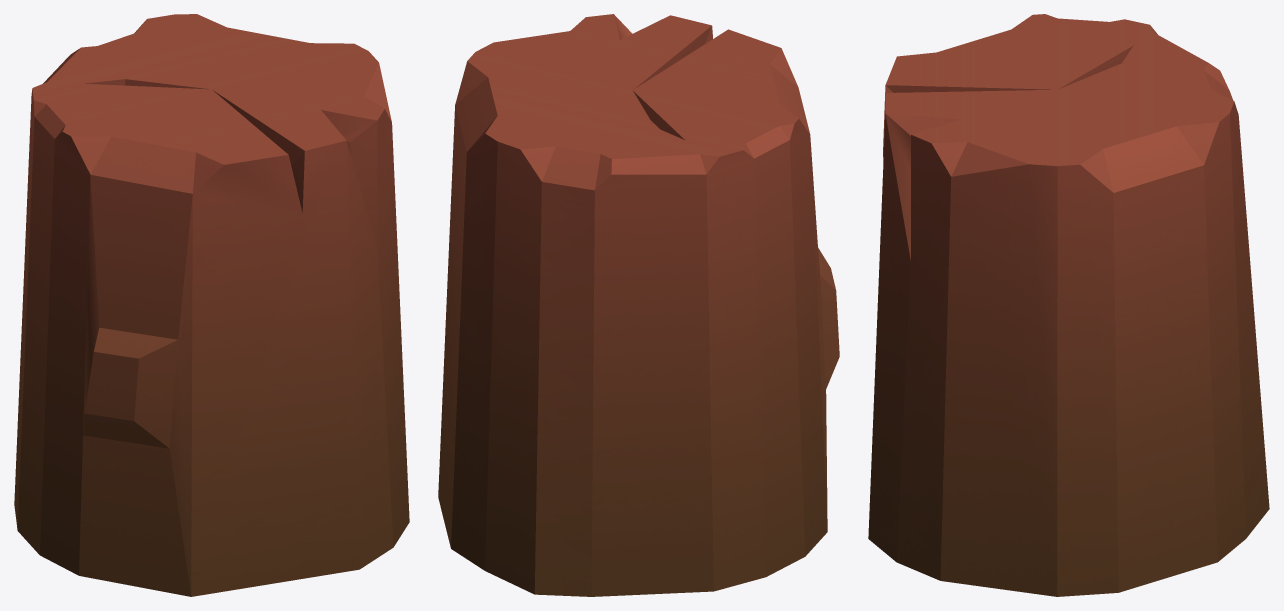
The model's file is ChoppingBlock.fbx.
The picture shows the model from 3 angles, left to right: view 1: azimuth 30°, elevation 25°; view 2: azimuth 150°, elevation 25°; view 3: azimuth 270°, elevation 25°; orthographic projection.
Parts seen in each view (by area): view 1: ChoppingBlock; view 2: ChoppingBlock; view 3: ChoppingBlock.
Boxes of the visible parts, box(x1,y1,x2,y2) form: ChoppingBlock: box(14, 14, 409, 596); ChoppingBlock: box(438, 14, 839, 596); ChoppingBlock: box(868, 14, 1269, 596).
Size of the model in its own units: 0.00474 by 0.00558 by 0.00479.
